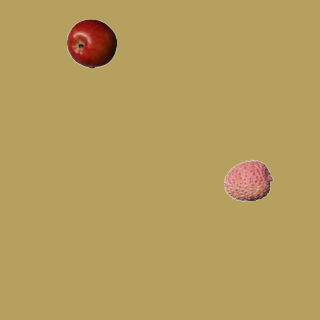Apple Braeburn: (66, 18, 116, 68)
Lychee: (223, 155, 273, 205)
